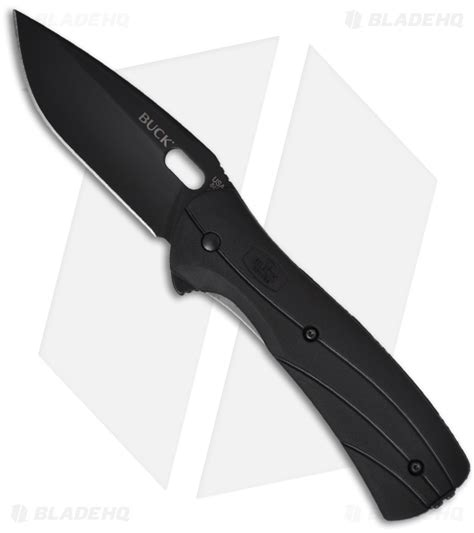knife: (11, 6, 474, 523)
